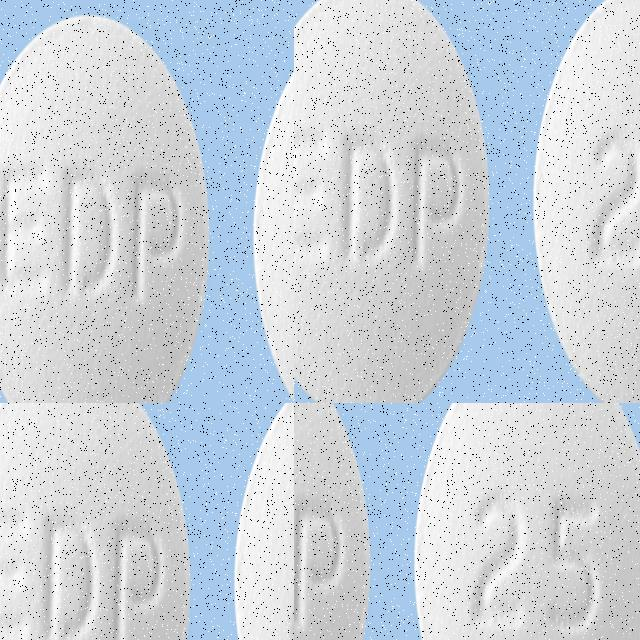Augmentin: (294, 174, 542, 403), (506, 0, 640, 231)
Ciflox: (413, 403, 640, 640), (294, 403, 374, 640)
Claniz: (0, 535, 268, 640), (204, 403, 294, 594)
Clevote: (0, 6, 211, 403)
